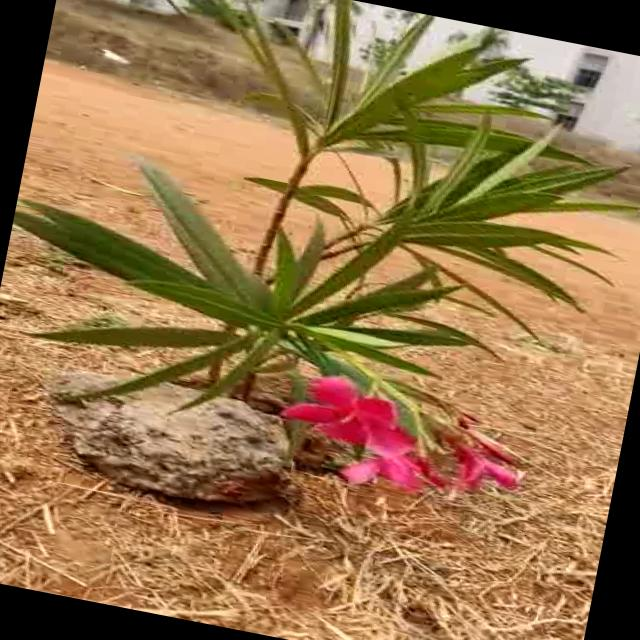Oleander: (51, 0, 640, 513)
